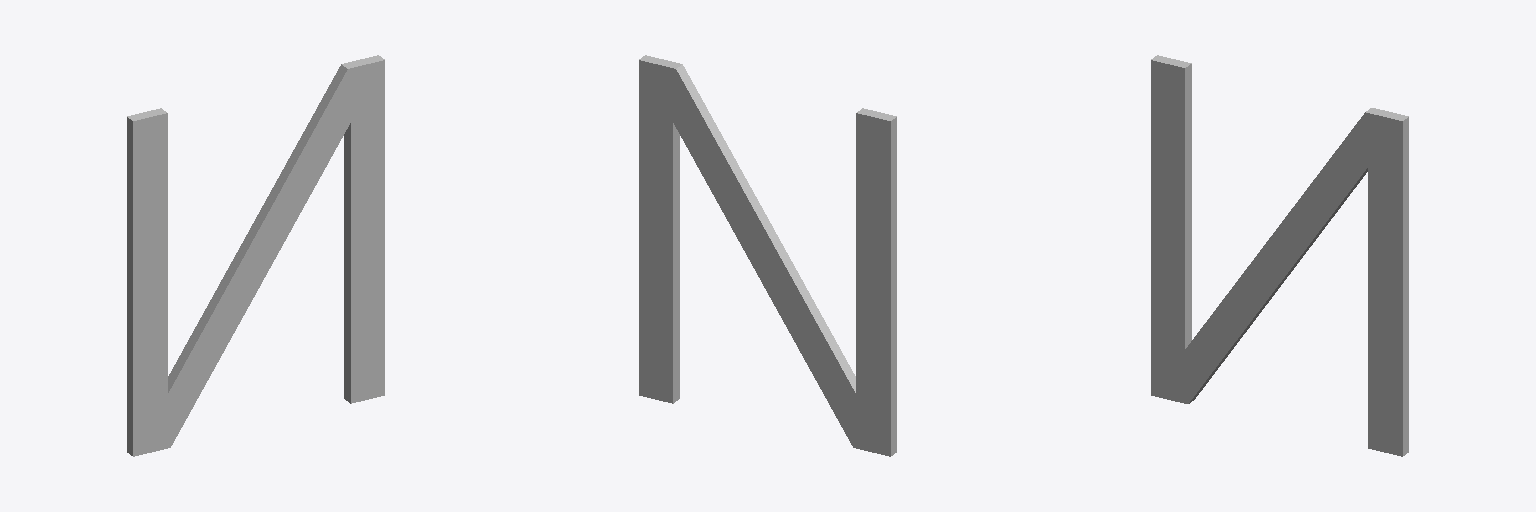
Rendered from N_UPPER.obj.
The picture shows the model from 3 angles: view 1: azimuth 30°, elevation 25°; view 2: azimuth 150°, elevation 25°; view 3: azimuth 330°, elevation 25°; orthographic projection.
Visible parts, largest first — view 1: default; view 2: default; view 3: default.
Boxes of the visible parts, x1,y1,x2,y2 form: default: [127, 55, 384, 456]; default: [639, 55, 896, 456]; default: [1151, 55, 1408, 456].
Bounding box in the file's own units: 2.2 × 2.8 × 0.1.